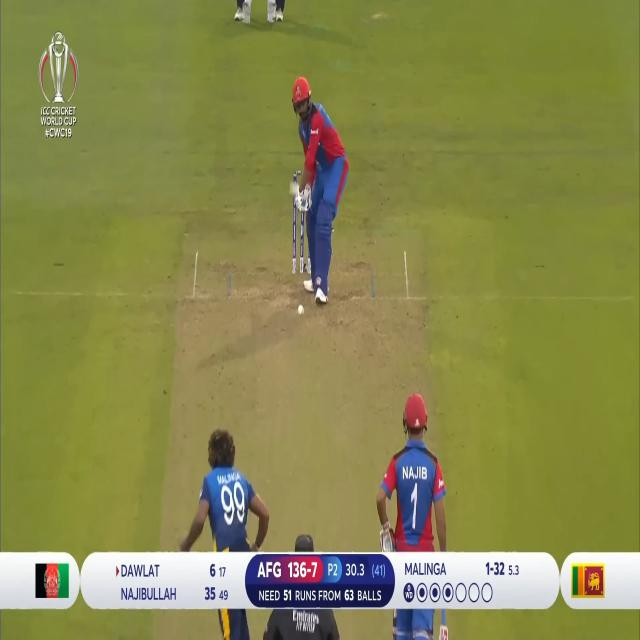ball: (298, 302, 306, 318)
